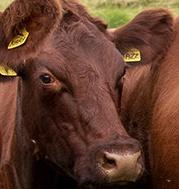muzzles: (90, 144, 146, 187)
